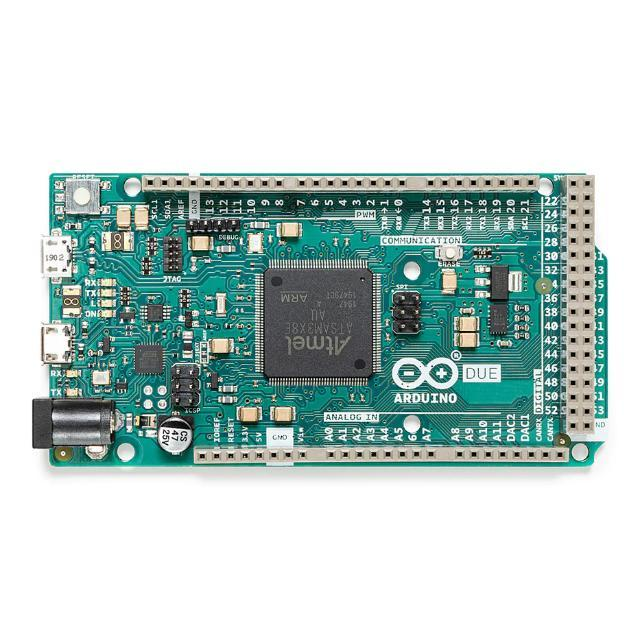Arduino-Due: (33, 175, 608, 466)
